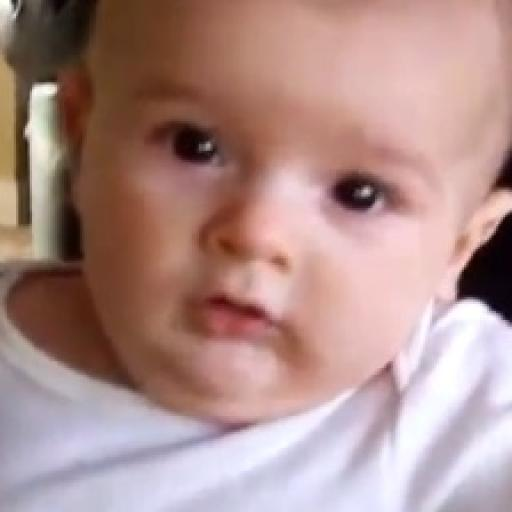Autism: (56, 22, 512, 410)
